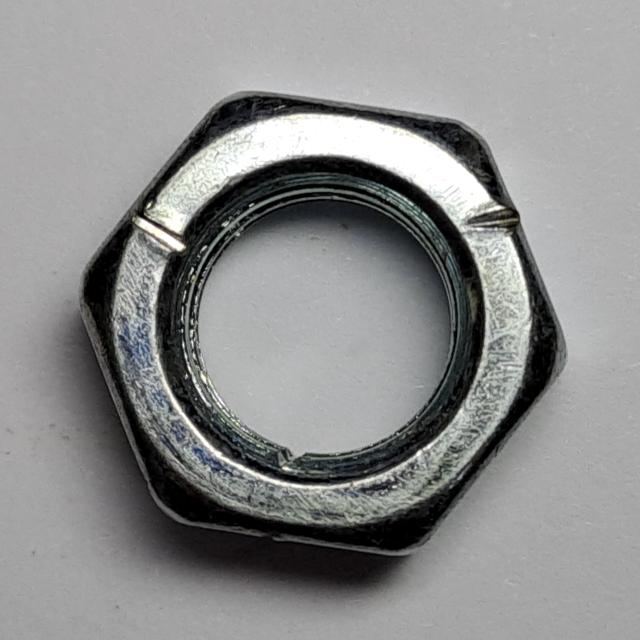Scratches: (68, 79, 579, 573)
